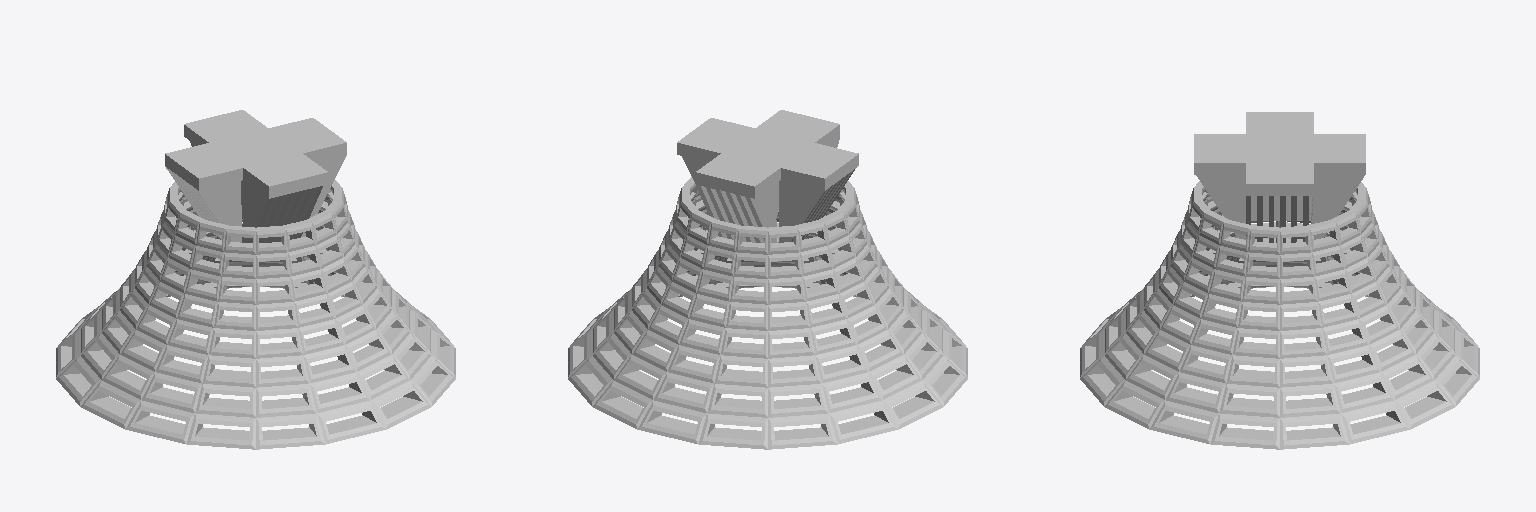
File: robotbody.obj
3 views of the same model, side by side, from view 1: azimuth 30°, elevation 25°; view 2: azimuth 150°, elevation 25°; view 3: azimuth 270°, elevation 25° (orthographic).
Visible parts, largest first — view 1: Cylinder05; view 2: Cylinder05; view 3: Cylinder05.
Part boxes in pixels (bbox=[...]): Cylinder05: bbox=[56, 110, 455, 449]; Cylinder05: bbox=[568, 110, 967, 449]; Cylinder05: bbox=[1080, 112, 1479, 449].
Size of the model in its own units: 46.26 by 27.1 by 45.56.